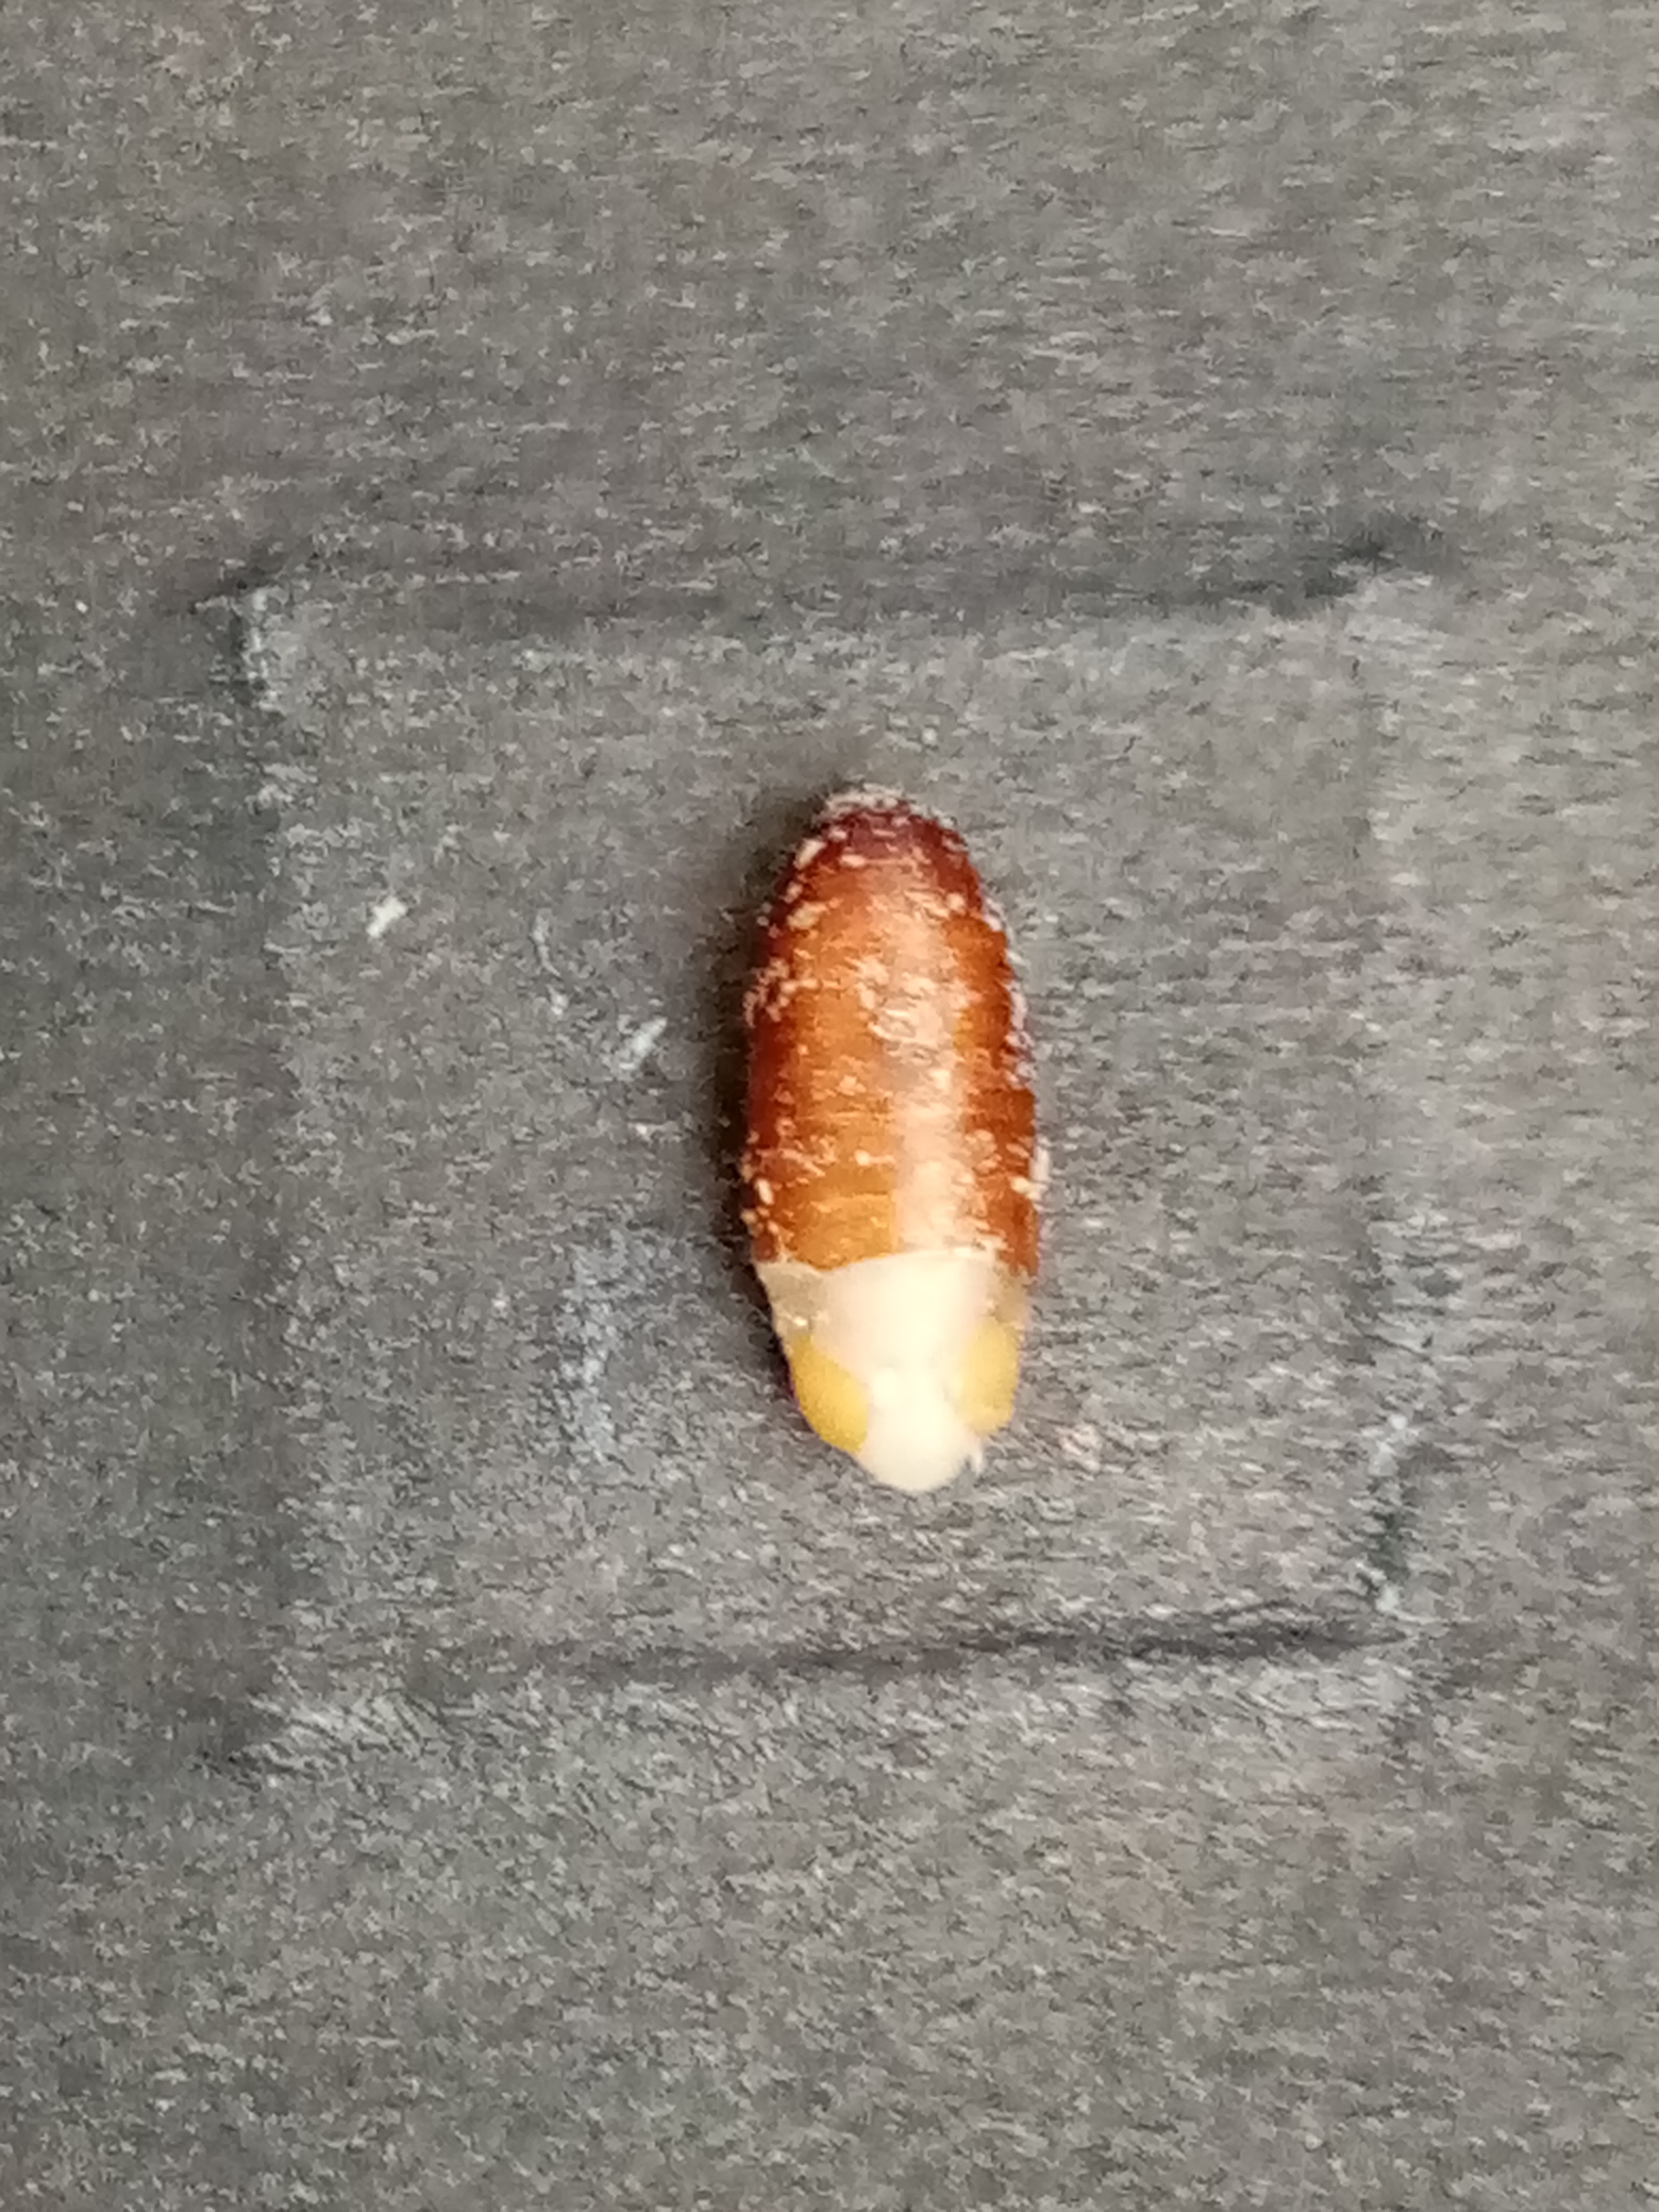pupa: (770, 1277, 1033, 1494)
